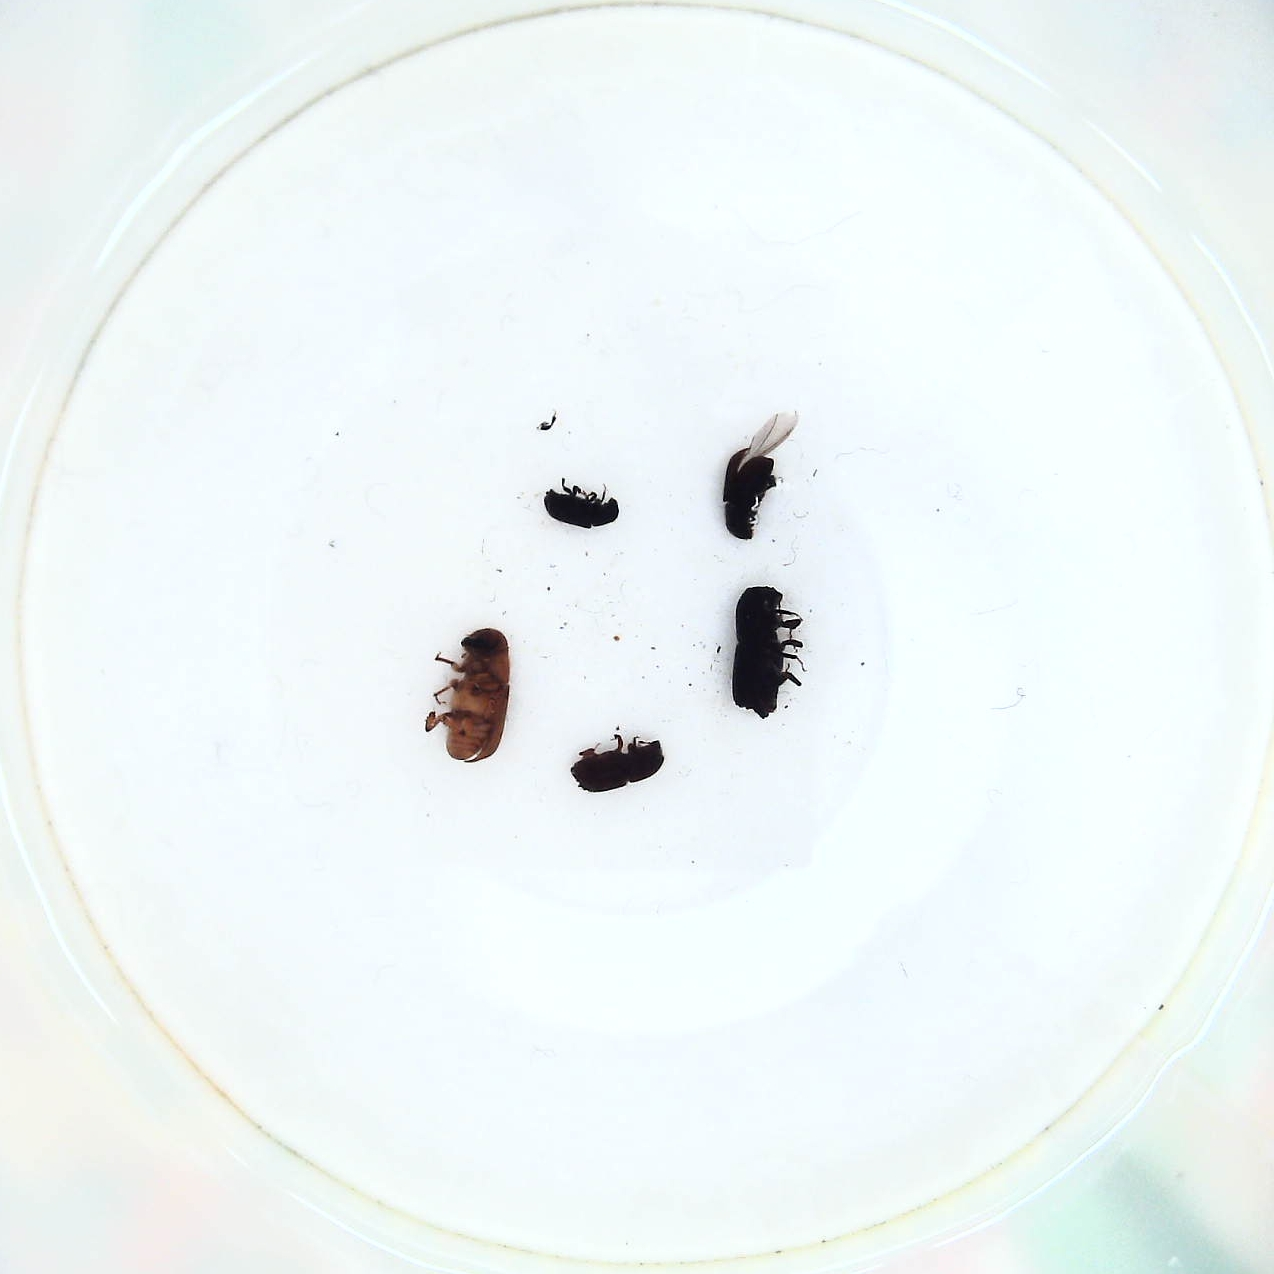Boerner: (726, 582, 808, 726)
Leconte: (421, 623, 513, 765)
armandi: (716, 413, 794, 542)
coleoptera: (540, 473, 623, 530)
linnaeus: (570, 728, 670, 794)
